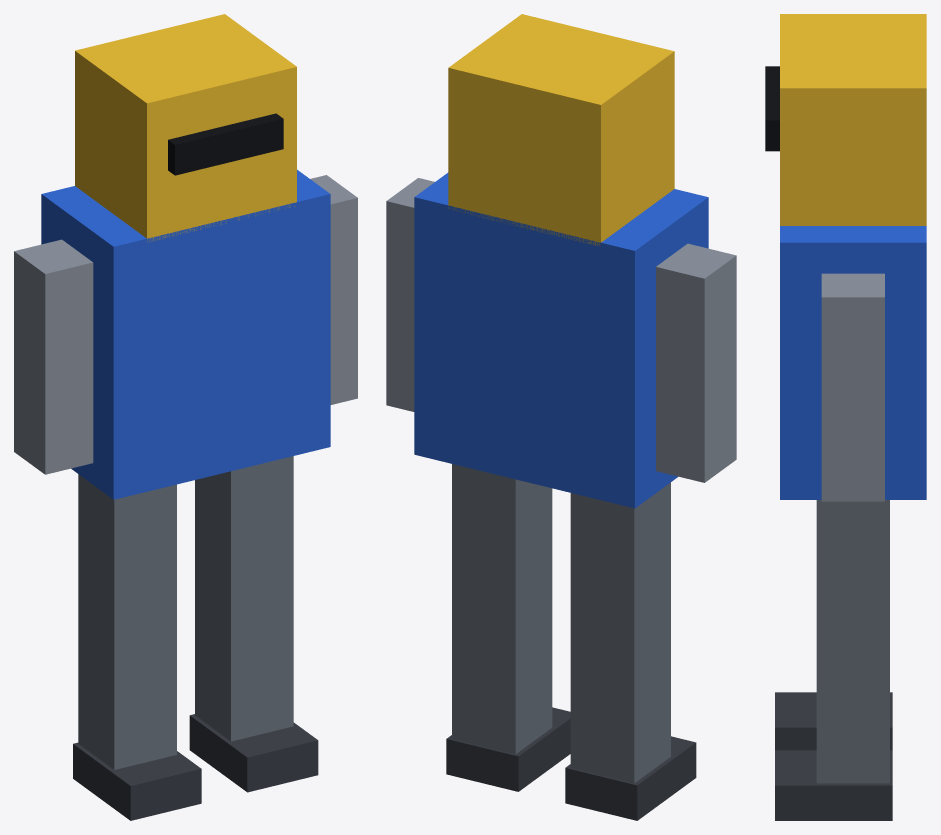
File: player_robot.glb
3 renders of one model, left to right at view 1: azimuth 30°, elevation 25°; view 2: azimuth 150°, elevation 25°; view 3: azimuth 270°, elevation 25°, orthographic.
Parts seen in each view (by area): view 1: PlayerRobot; view 2: PlayerRobot; view 3: PlayerRobot.
Part boxes in pixels (box(x1,y1,x2,y2)): PlayerRobot: box(14, 14, 357, 820); PlayerRobot: box(386, 14, 736, 820); PlayerRobot: box(765, 14, 926, 820).
Bounding box in the file's own units: 0.75 × 1.63 × 0.33.
